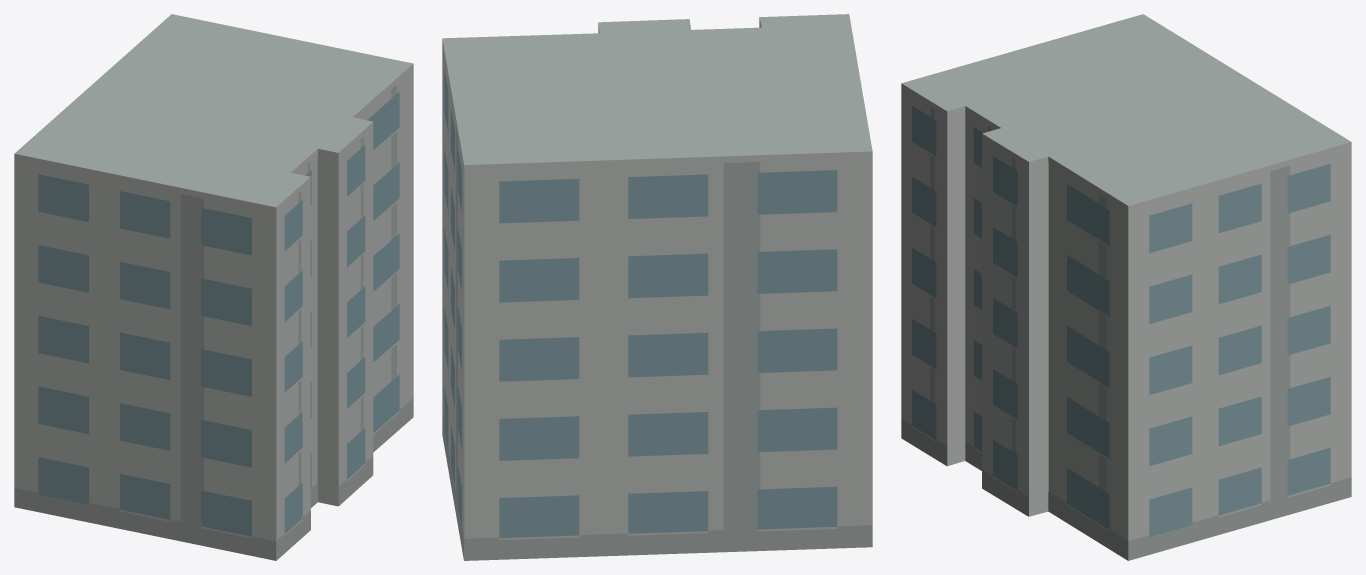
Rendered from survey-upis-32973276.glb.
The picture shows the model from 3 angles, left to right: view 1: azimuth 30°, elevation 25°; view 2: azimuth 150°, elevation 25°; view 3: azimuth 270°, elevation 25°; orthographic projection. The views are drawn at different scales.
Visible parts, largest first — view 1: survey-upis-32973276.tmp; view 2: survey-upis-32973276.tmp; view 3: survey-upis-32973276.tmp.
Boxes of the visible parts, <box> form: survey-upis-32973276.tmp: <box>14,14,413,560</box>; survey-upis-32973276.tmp: <box>442,14,872,560</box>; survey-upis-32973276.tmp: <box>901,14,1351,560</box>.
Bounding box in the file's own units: 16.59 × 14.3 × 16.45.
